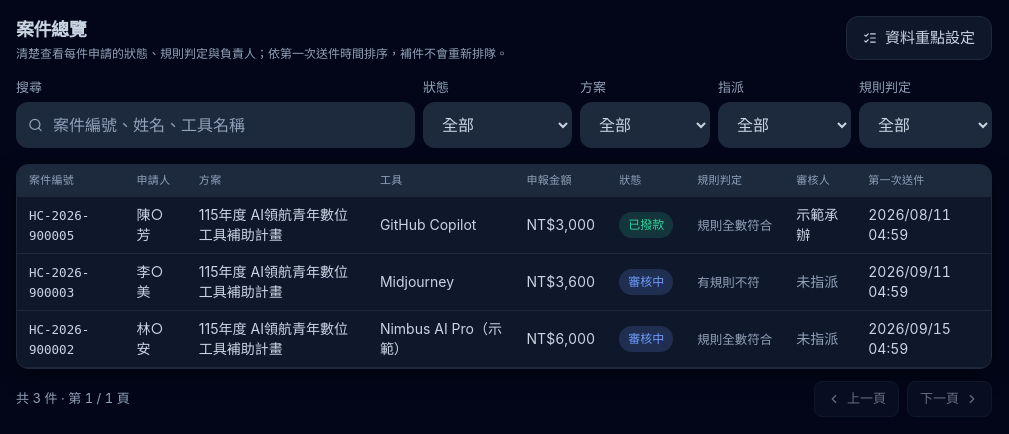
it: CasesQueuePage › 狀態篩選會縮小清單
Expected: the text "HC-2026-900002" is shown, [29,322,89,357]
Select "已撥款" in the dropdown labelled "狀態" at (498, 124), box [423,102,572,148]
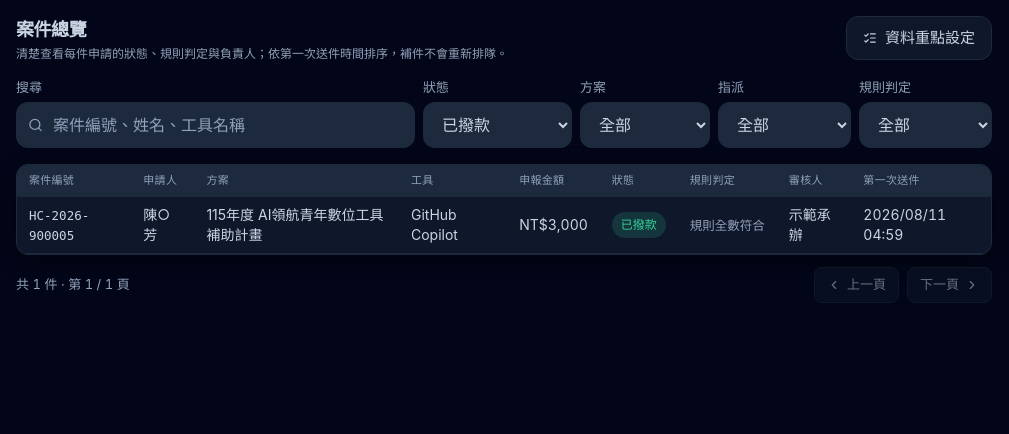
Expected: the text "HC-2026-900005" is shown, [29,208,89,243]
Expected: the text "HC-2026-900002" is gone
